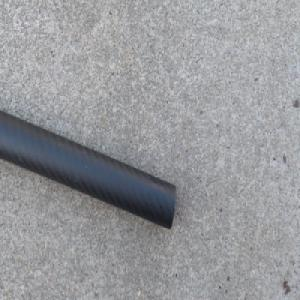LuggagePart: (0, 108, 177, 231)
